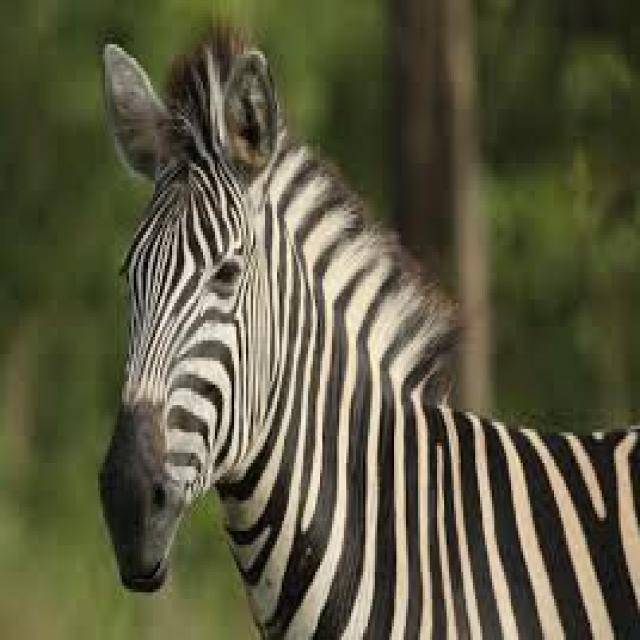Zebra: (97, 33, 640, 640)
